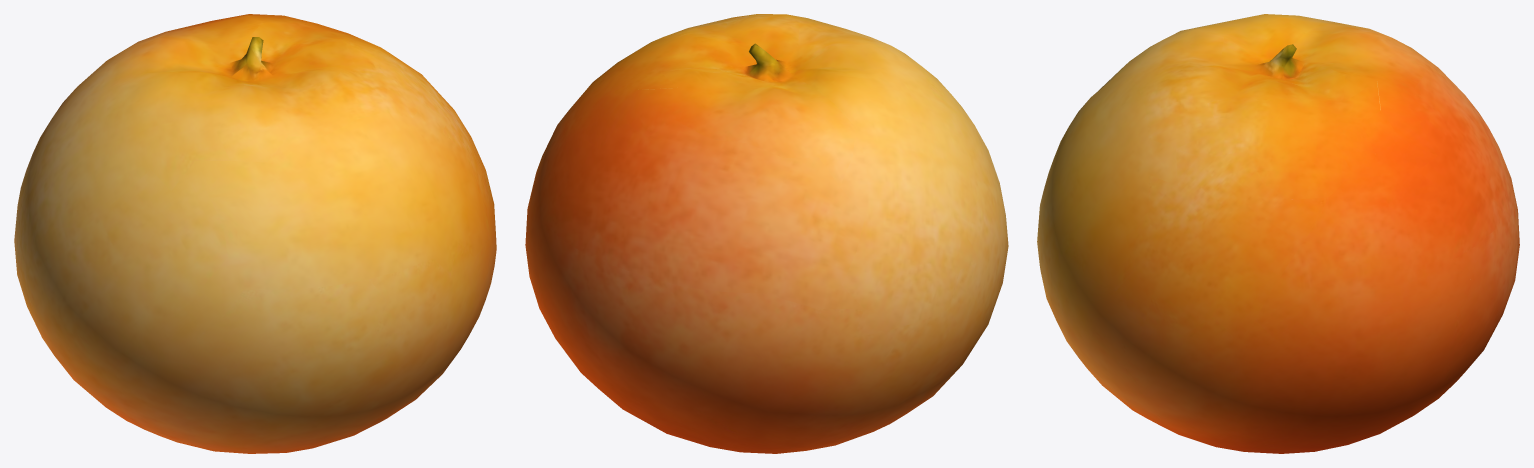
Rendered from orange.glb.
The picture shows the model from 3 angles, left to right: view 1: azimuth 30°, elevation 25°; view 2: azimuth 150°, elevation 25°; view 3: azimuth 270°, elevation 25°; orthographic projection.
Visible parts, largest first — view 1: tripo_node_f7d3c7ca-db24-45eb-b140-cfbb1ce204ad; view 2: tripo_node_f7d3c7ca-db24-45eb-b140-cfbb1ce204ad; view 3: tripo_node_f7d3c7ca-db24-45eb-b140-cfbb1ce204ad.
Boxes of the visible parts, left/top/right/bottom form: tripo_node_f7d3c7ca-db24-45eb-b140-cfbb1ce204ad: left=14, top=14, right=496, bottom=453; tripo_node_f7d3c7ca-db24-45eb-b140-cfbb1ce204ad: left=525, top=14, right=1008, bottom=453; tripo_node_f7d3c7ca-db24-45eb-b140-cfbb1ce204ad: left=1037, top=14, right=1519, bottom=453.
Size of the model in its own units: 0.998 by 0.8809 by 0.998.
1 material, 1 textured.
